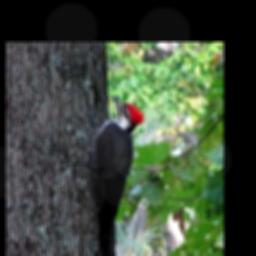Woodpecker: (77, 93, 147, 256)
